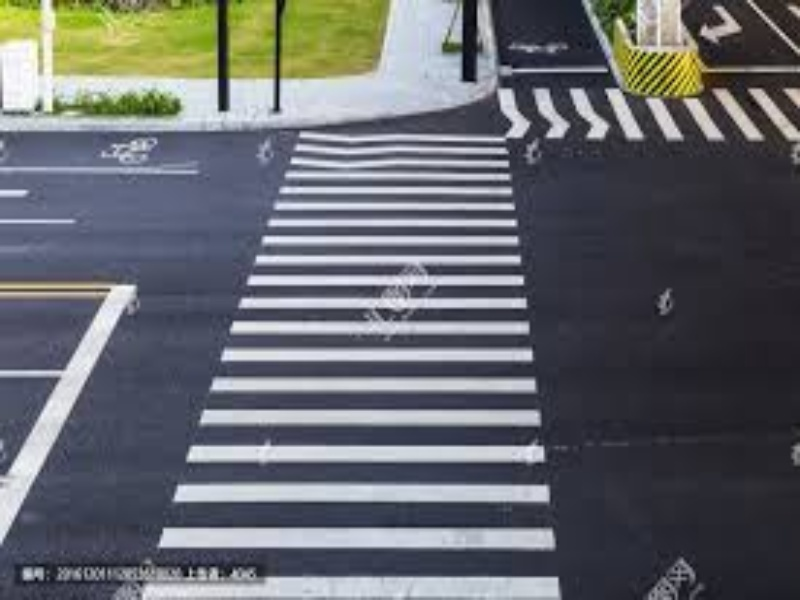zebra cross: (138, 133, 561, 594), (498, 83, 798, 142)
